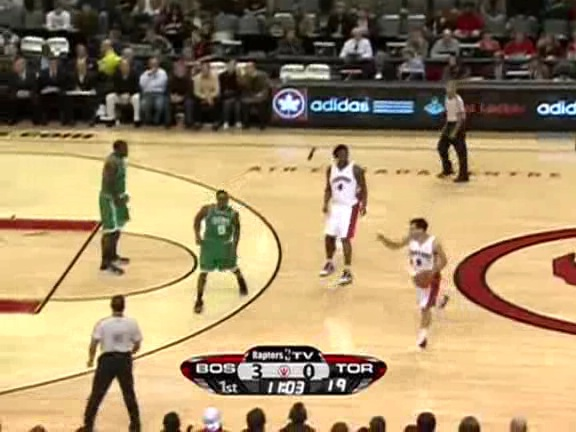person: (202, 201, 236, 282), (201, 201, 235, 282), (203, 201, 237, 282), (202, 200, 236, 281), (202, 202, 236, 283)
target_negative: (482, 109, 552, 404), (485, 190, 554, 207), (552, 325, 553, 429)
